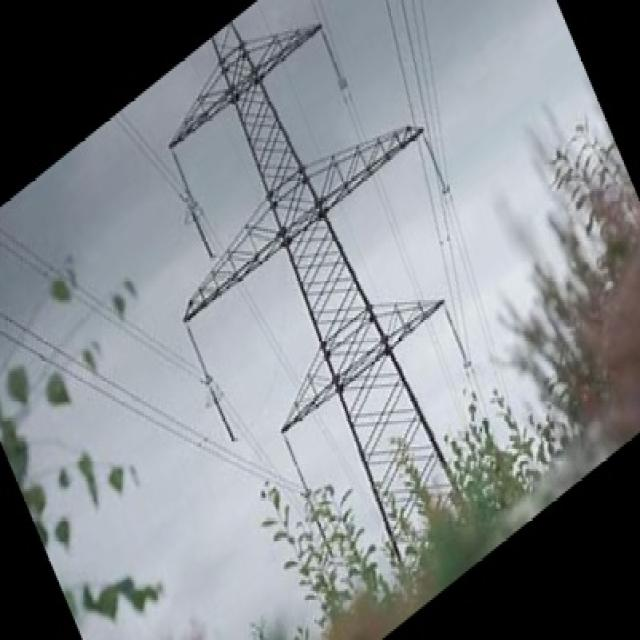utility poles: (256, 302, 492, 554)
